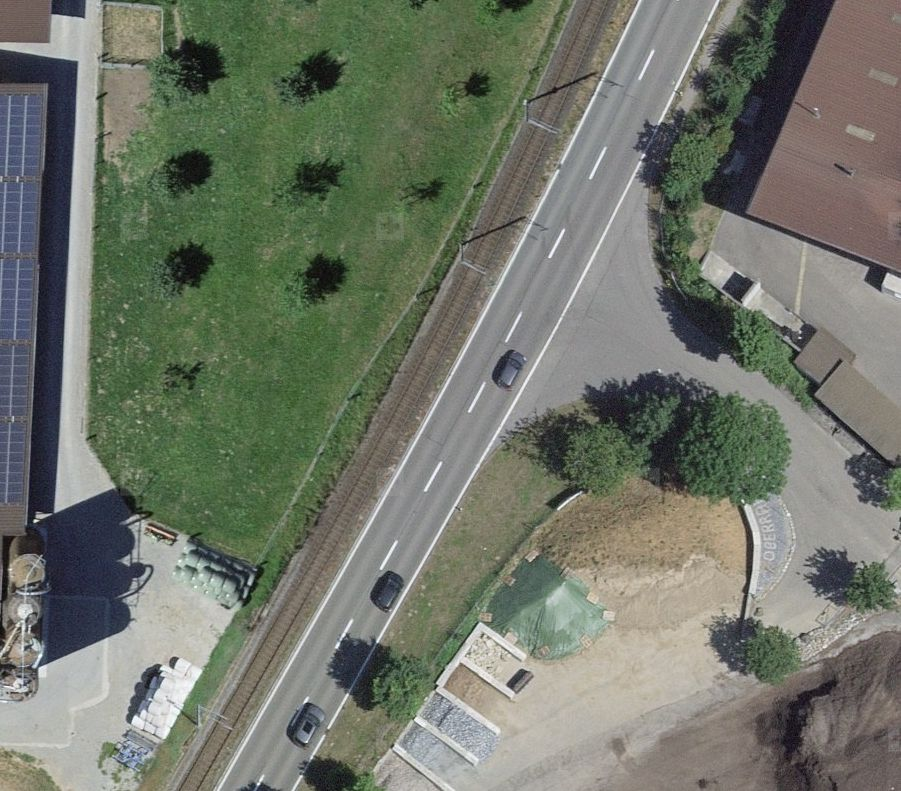solar: (1, 89, 43, 507)
